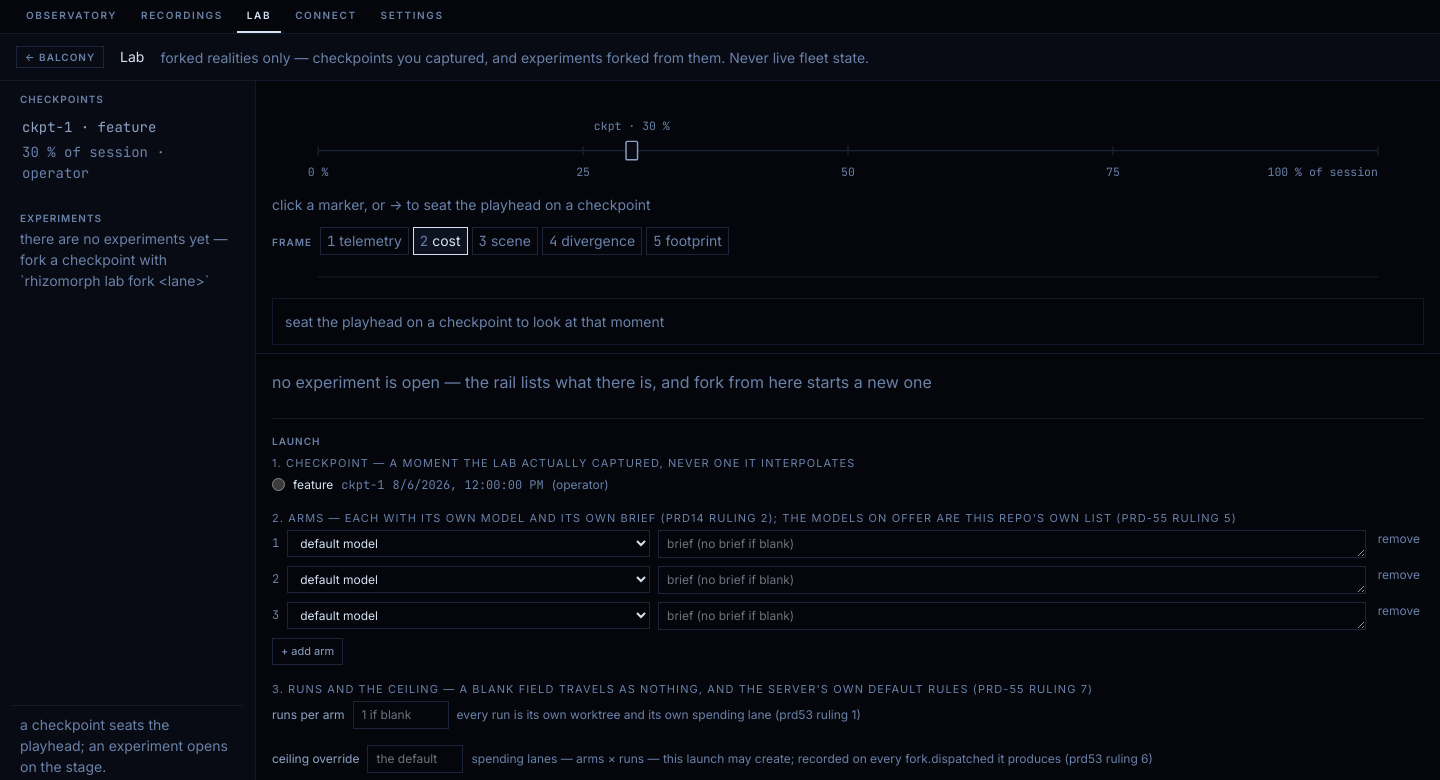
Test case: the workspace is one working screen (prd-55 ruling 8, S1-prime) › and the launch's step 1 reuses the rail's selection rather than repeating the table
The width and height of the screenshot is (1440, 780).
Click the button with test id "lab-checkpoint-row-ckpt-1". click: (128, 150)
box: left=12, top=109, right=243, bottom=192
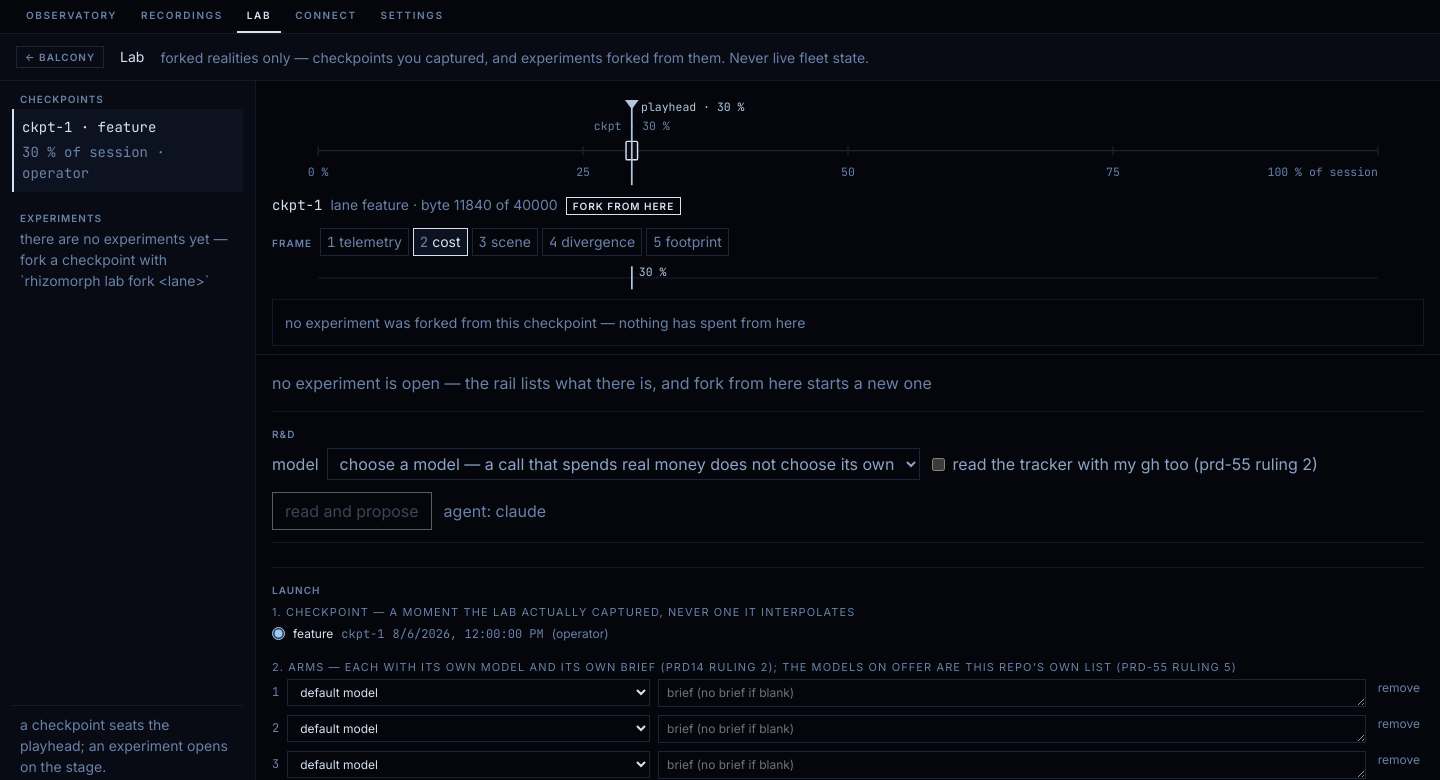
Result: the radio button labelled "feature ckpt-1 8/6/2026, 12:00:00 PM (operator)" is checked at left=272, top=627, right=285, bottom=640
